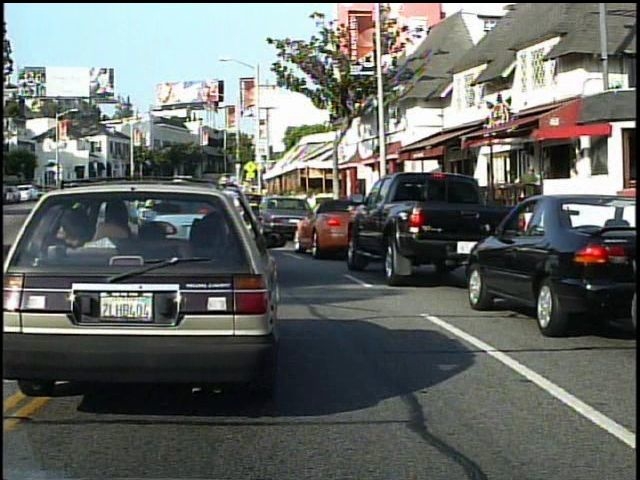person: (518, 160, 543, 222)
